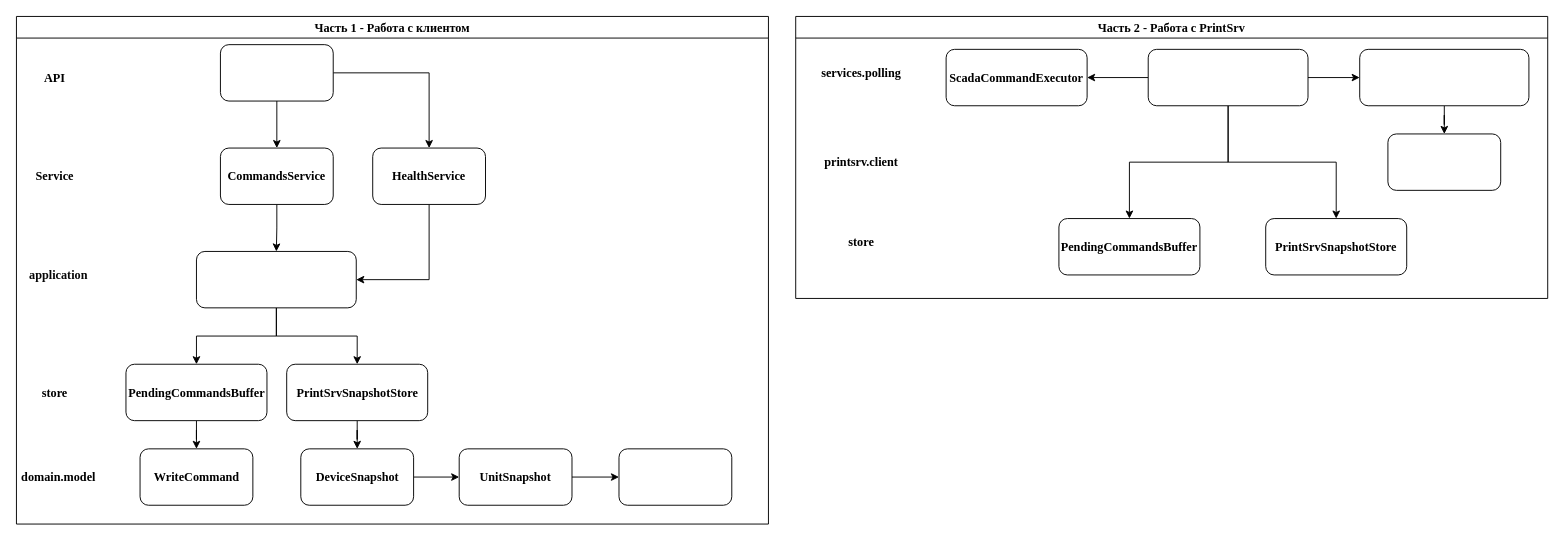
This 1564x541 diagram has some shape labels left out. Each missing label, with the centre of its shape:
CommandsController: pixel 276 72
PrintSrvConnectionManager: pixel 1444 77
PrintSrvPollingScheduler: pixel 1227 77
ScadaApplicationService: pixel 276 279
SocketManager: pixel 1444 161
UnitProperties: pixel 675 476
